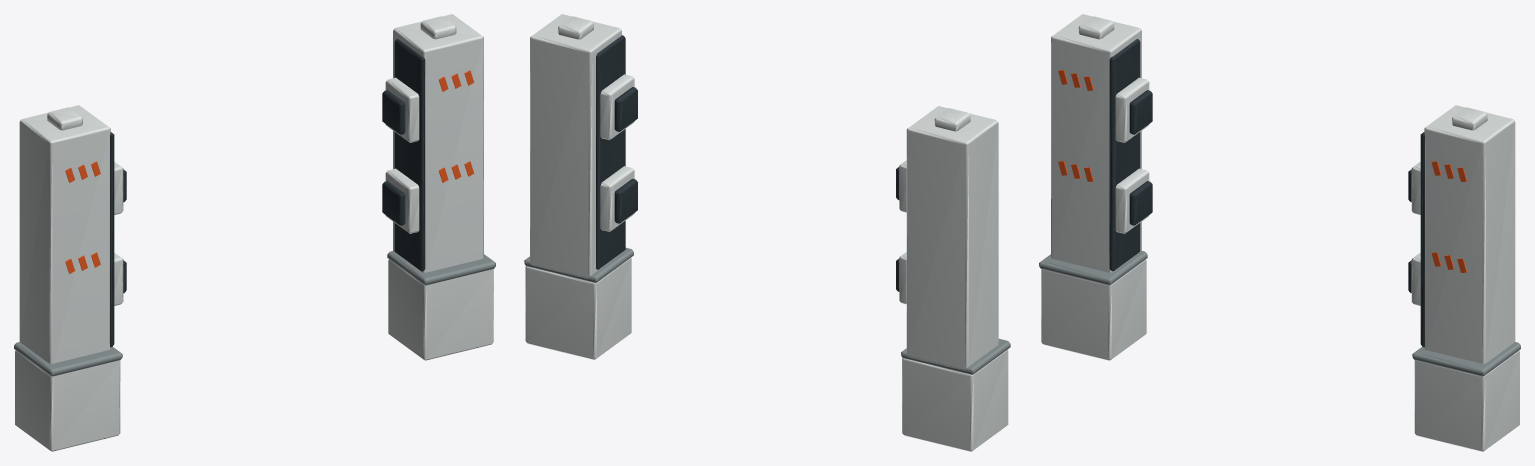
Rendered from ElectricGateBody.obj.
3 renders of one model, left to right at view 1: azimuth 30°, elevation 25°; view 2: azimuth 150°, elevation 25°; view 3: azimuth 330°, elevation 25°, orthographic.
Parts seen in each view (by area): view 1: PillarBody, PillarBody.001, PillarBase.001, PillarBase, InnerEmitterRail.001, BaseJoint, BaseJoint.001, EmitterMount.003, EmitterMount.002, InnerEmitterRail, EmitterSocket.002, EmitterSocket.003 (+4 smaller); view 2: PillarBody, PillarBody.001, PillarBase, PillarBase.001, InnerEmitterRail.001, EmitterMount.002, EmitterMount.003, EmitterSocket.003, EmitterSocket.002, BaseJoint, BaseJoint.001, PillarCap (+1 smaller); view 3: PillarBody.001, PillarBody, PillarBase, PillarBase.001, InnerEmitterRail, BaseJoint.001, BaseJoint, EmitterMount.001, EmitterMount, InnerEmitterRail.001, EmitterSocket, EmitterSocket.001 (+4 smaller).
Boxes of the visible parts, x1=… form: PillarBody: x1=19, y1=105, x2=110, y2=363; PillarBody.001: x1=393, y1=14, x2=483, y2=272; PillarBase.001: x1=388, y1=259, x2=493, y2=360; PillarBase: x1=15, y1=350, x2=120, y2=451; InnerEmitterRail.001: x1=394, y1=39, x2=425, y2=271; BaseJoint: x1=14, y1=342, x2=122, y2=376; BaseJoint.001: x1=387, y1=251, x2=495, y2=285; EmitterMount.003: x1=385, y1=77, x2=419, y2=142; EmitterMount.002: x1=385, y1=168, x2=419, y2=233; InnerEmitterRail: x1=110, y1=132, x2=114, y2=347; EmitterSocket.002: x1=382, y1=181, x2=405, y2=225; EmitterSocket.003: x1=382, y1=90, x2=405, y2=134; PillarBody: x1=906, y1=106, x2=998, y2=370; PillarBody.001: x1=530, y1=14, x2=621, y2=278; PillarBase: x1=902, y1=349, x2=1008, y2=451; PillarBase.001: x1=525, y1=258, x2=631, y2=359; InnerEmitterRail.001: x1=596, y1=35, x2=625, y2=269; EmitterMount.002: x1=600, y1=166, x2=634, y2=231; EmitterMount.003: x1=600, y1=74, x2=634, y2=140; EmitterSocket.003: x1=614, y1=87, x2=637, y2=131; EmitterSocket.002: x1=614, y1=178, x2=637, y2=223; BaseJoint: x1=901, y1=338, x2=1010, y2=374; BaseJoint.001: x1=524, y1=247, x2=633, y2=283; PillarCap: x1=934, y1=108, x2=970, y2=131; PillarBody.001: x1=1424, y1=105, x2=1515, y2=363; PillarBody: x1=1051, y1=14, x2=1141, y2=272; PillarBase: x1=1041, y1=259, x2=1146, y2=360; PillarBase.001: x1=1414, y1=350, x2=1519, y2=451; InnerEmitterRail: x1=1109, y1=39, x2=1140, y2=271; BaseJoint.001: x1=1412, y1=342, x2=1520, y2=376; BaseJoint: x1=1039, y1=251, x2=1147, y2=285; EmitterMount.001: x1=1115, y1=77, x2=1149, y2=142; EmitterMount: x1=1115, y1=168, x2=1149, y2=233; InnerEmitterRail.001: x1=1420, y1=132, x2=1424, y2=347; EmitterSocket: x1=1129, y1=181, x2=1152, y2=225; EmitterSocket.001: x1=1129, y1=90, x2=1152, y2=134.
Size of the model in its own units: 6.93 by 4.68 by 1.03.
4 materials, 4 textured.
